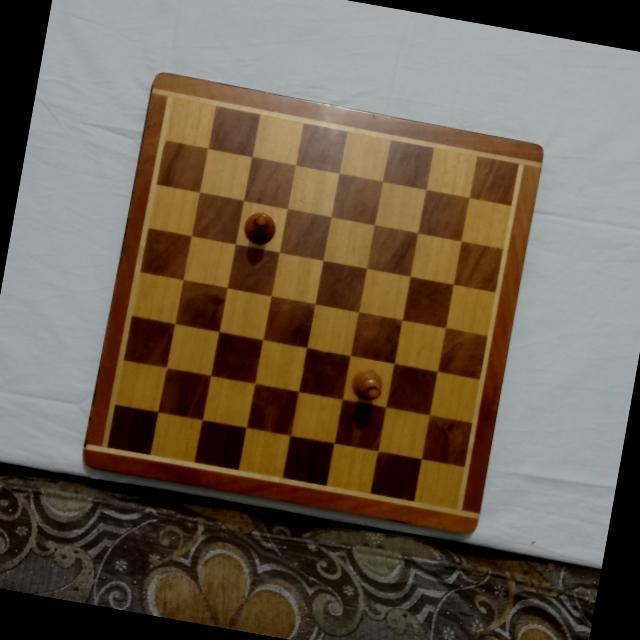white-bishop: (238, 207, 280, 249), (347, 365, 386, 403)
